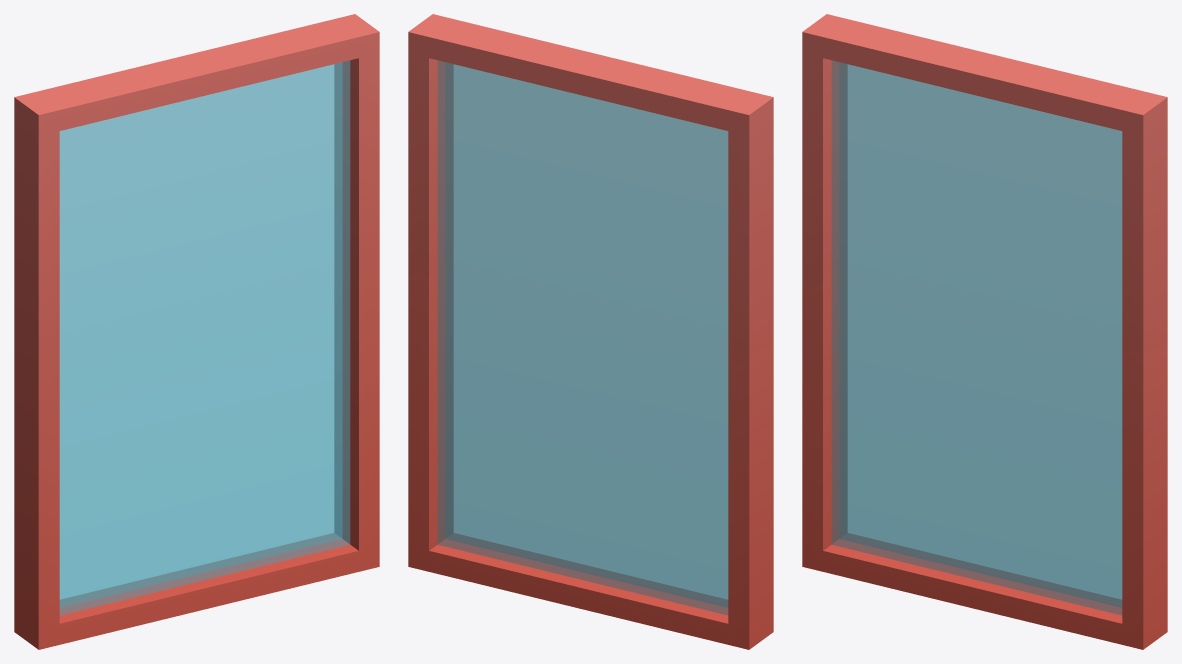
The model's file is 2m_Bordered_Glass_cherry.fbx.
The picture shows the model from 3 angles, left to right: view 1: azimuth 30°, elevation 25°; view 2: azimuth 150°, elevation 25°; view 3: azimuth 330°, elevation 25°; orthographic projection.
Parts seen in each view (by area): view 1: 2m_Bordered_Glass.cherry; view 2: 2m_Bordered_Glass.cherry; view 3: 2m_Bordered_Glass.cherry.
Part boxes in pixels (x1,y1,x2,y2): 2m_Bordered_Glass.cherry: [14, 14, 379, 649]; 2m_Bordered_Glass.cherry: [408, 14, 773, 649]; 2m_Bordered_Glass.cherry: [802, 14, 1167, 649].
Bounding box in the file's own units: 200 × 300 × 25.
